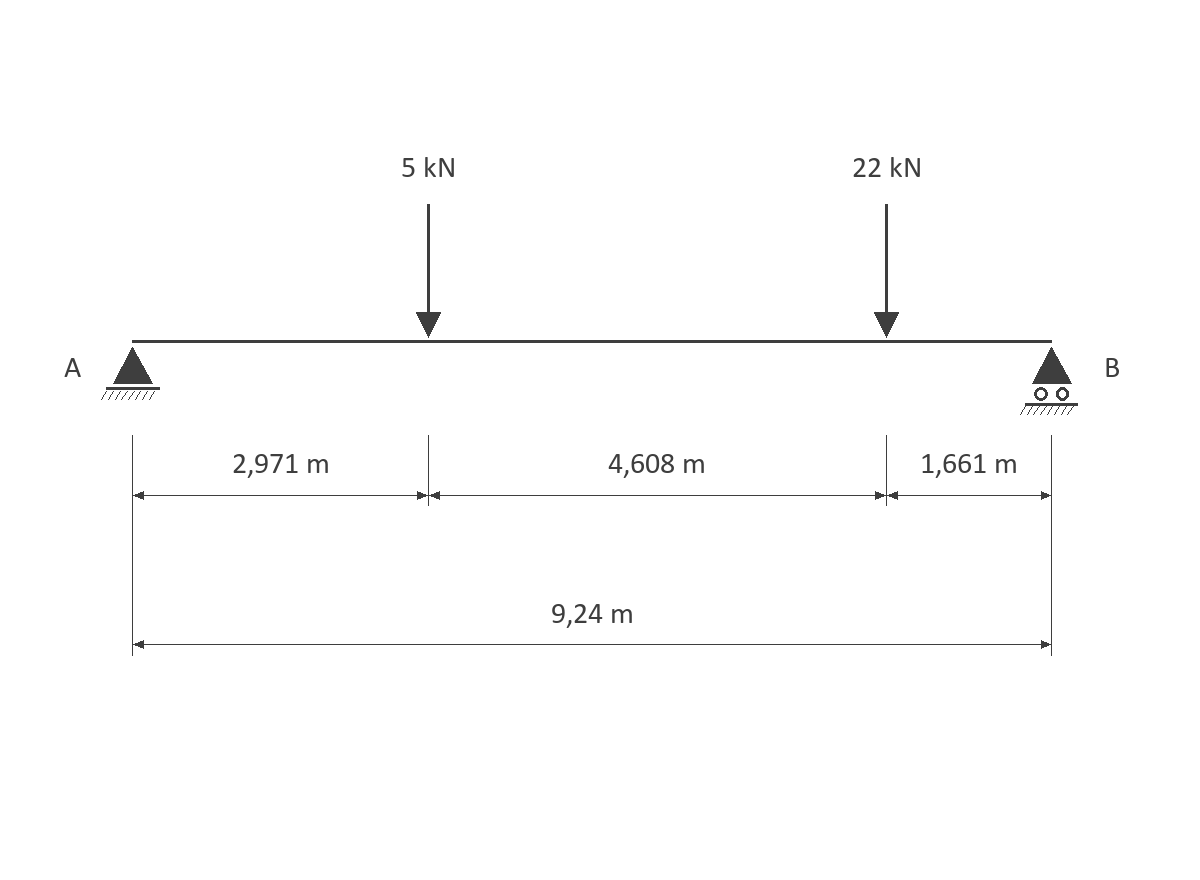pin_support: (101, 347, 160, 400)
point_load: (416, 204, 441, 338), (874, 204, 899, 338)
roller_support: (1020, 347, 1078, 415)
